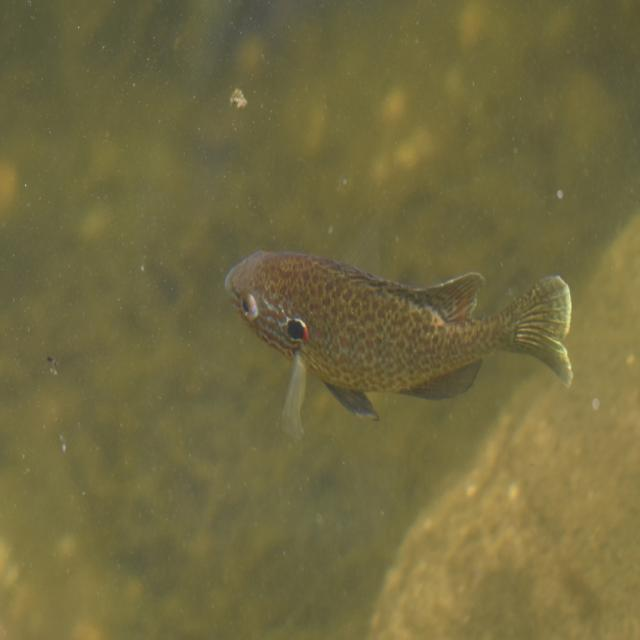Gunes Levregi: (222, 247, 574, 440)
